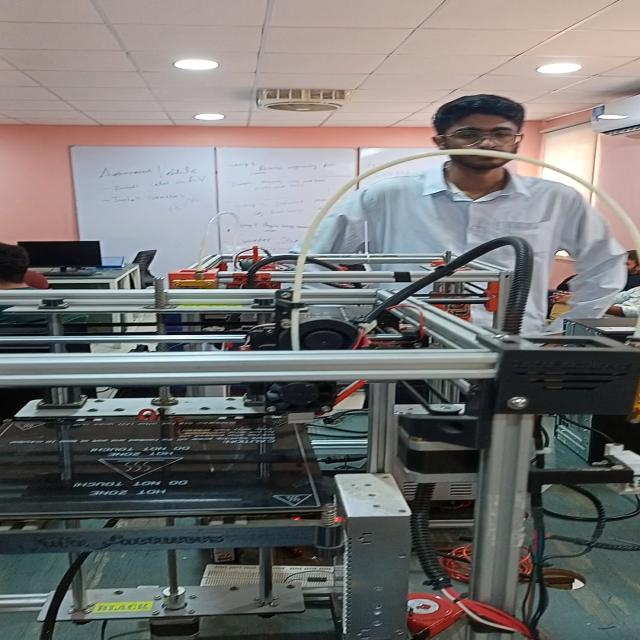dress: (323, 164, 630, 329)
